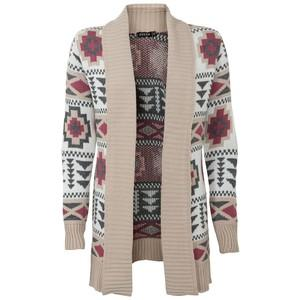S_cardigan sweater: (56, 7, 245, 299)
